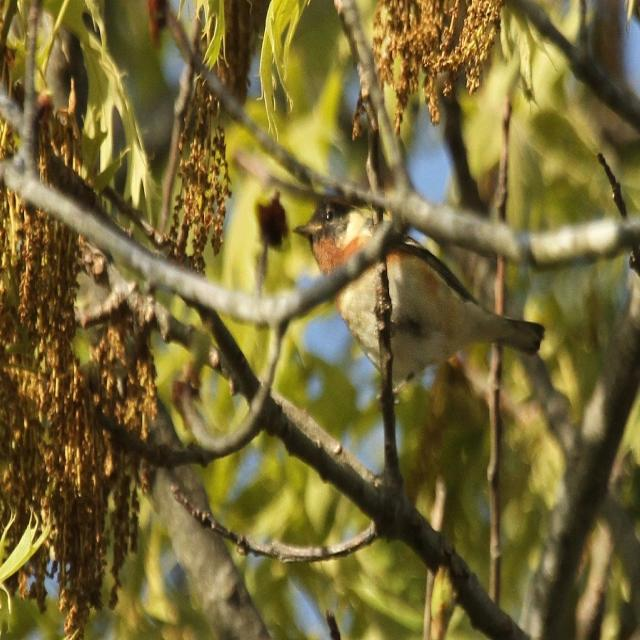bird: (288, 198, 552, 383)
